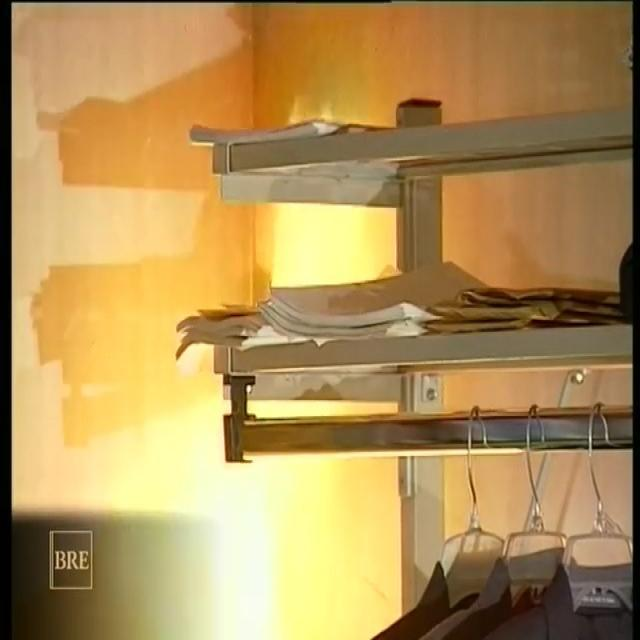Fire: (206, 74, 424, 634)
